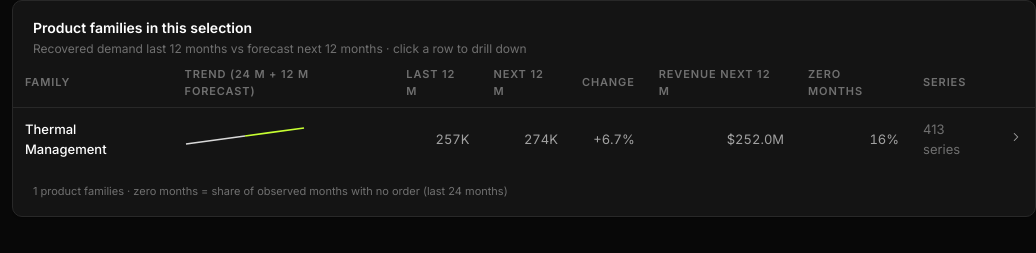
it: DrillTable › drills into a row by setting the global filter
The width and height of the screenshot is (1036, 253).
Expected: the text "+6.7%" is shown, [570, 108, 647, 171]
Expected: the text "16%" is shown, [796, 108, 911, 171]
Click the button with aria-label "Drill into Thermal Management": (524, 139) [13, 108, 1035, 171]
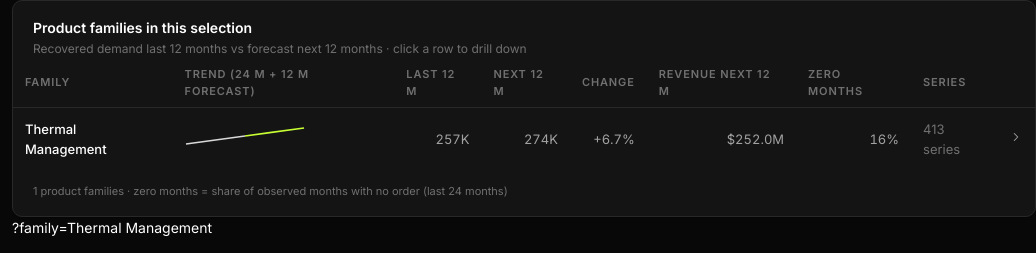
Expected: the text with test id "loc" shows "family=Thermal Management", [12, 218, 212, 236]
